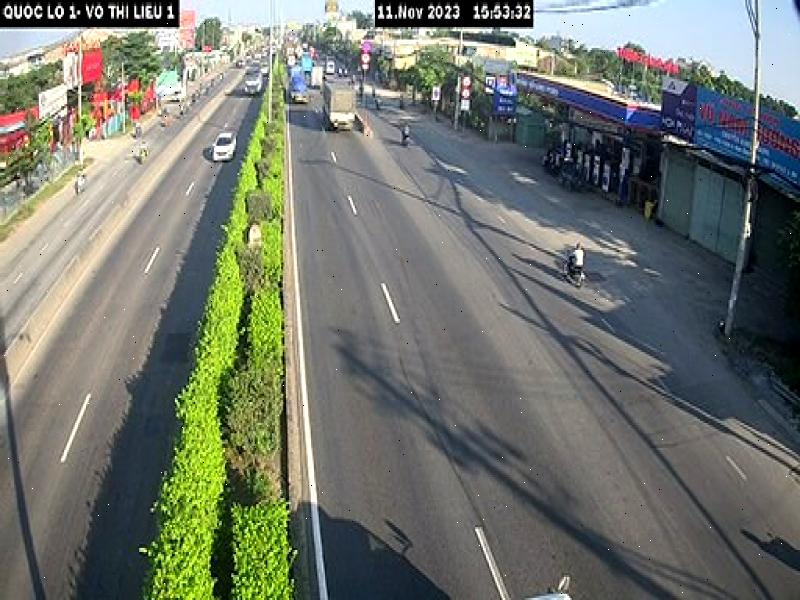truck: (322, 73, 358, 136)
